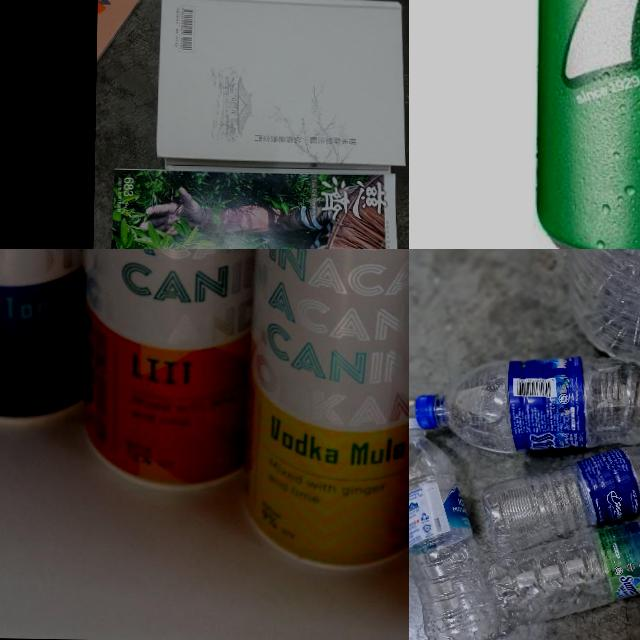garrafa plástica: (409, 438, 505, 640), (443, 350, 640, 445), (487, 445, 640, 548), (504, 522, 640, 622)
lata: (71, 249, 288, 487), (250, 249, 409, 564), (527, 0, 640, 249), (0, 249, 101, 415)
papel: (158, 0, 409, 163), (104, 163, 409, 249), (94, 0, 163, 98)
tampa plástica: (414, 388, 444, 430), (409, 408, 419, 437)
